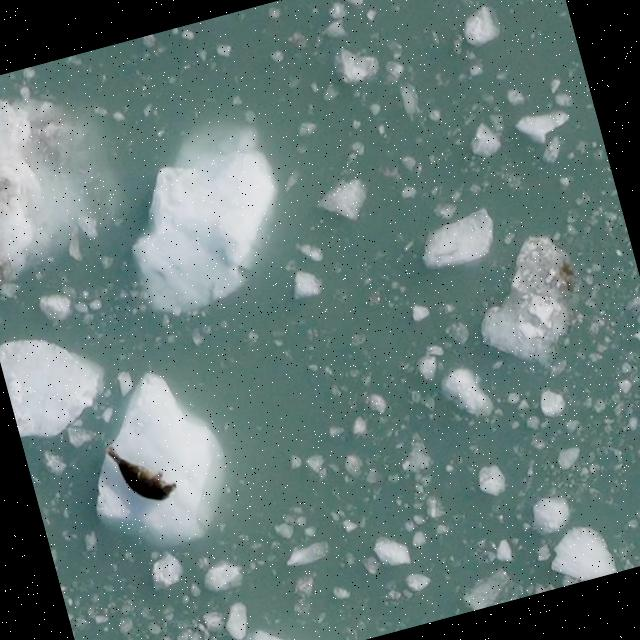seal: (95, 442, 180, 510)
